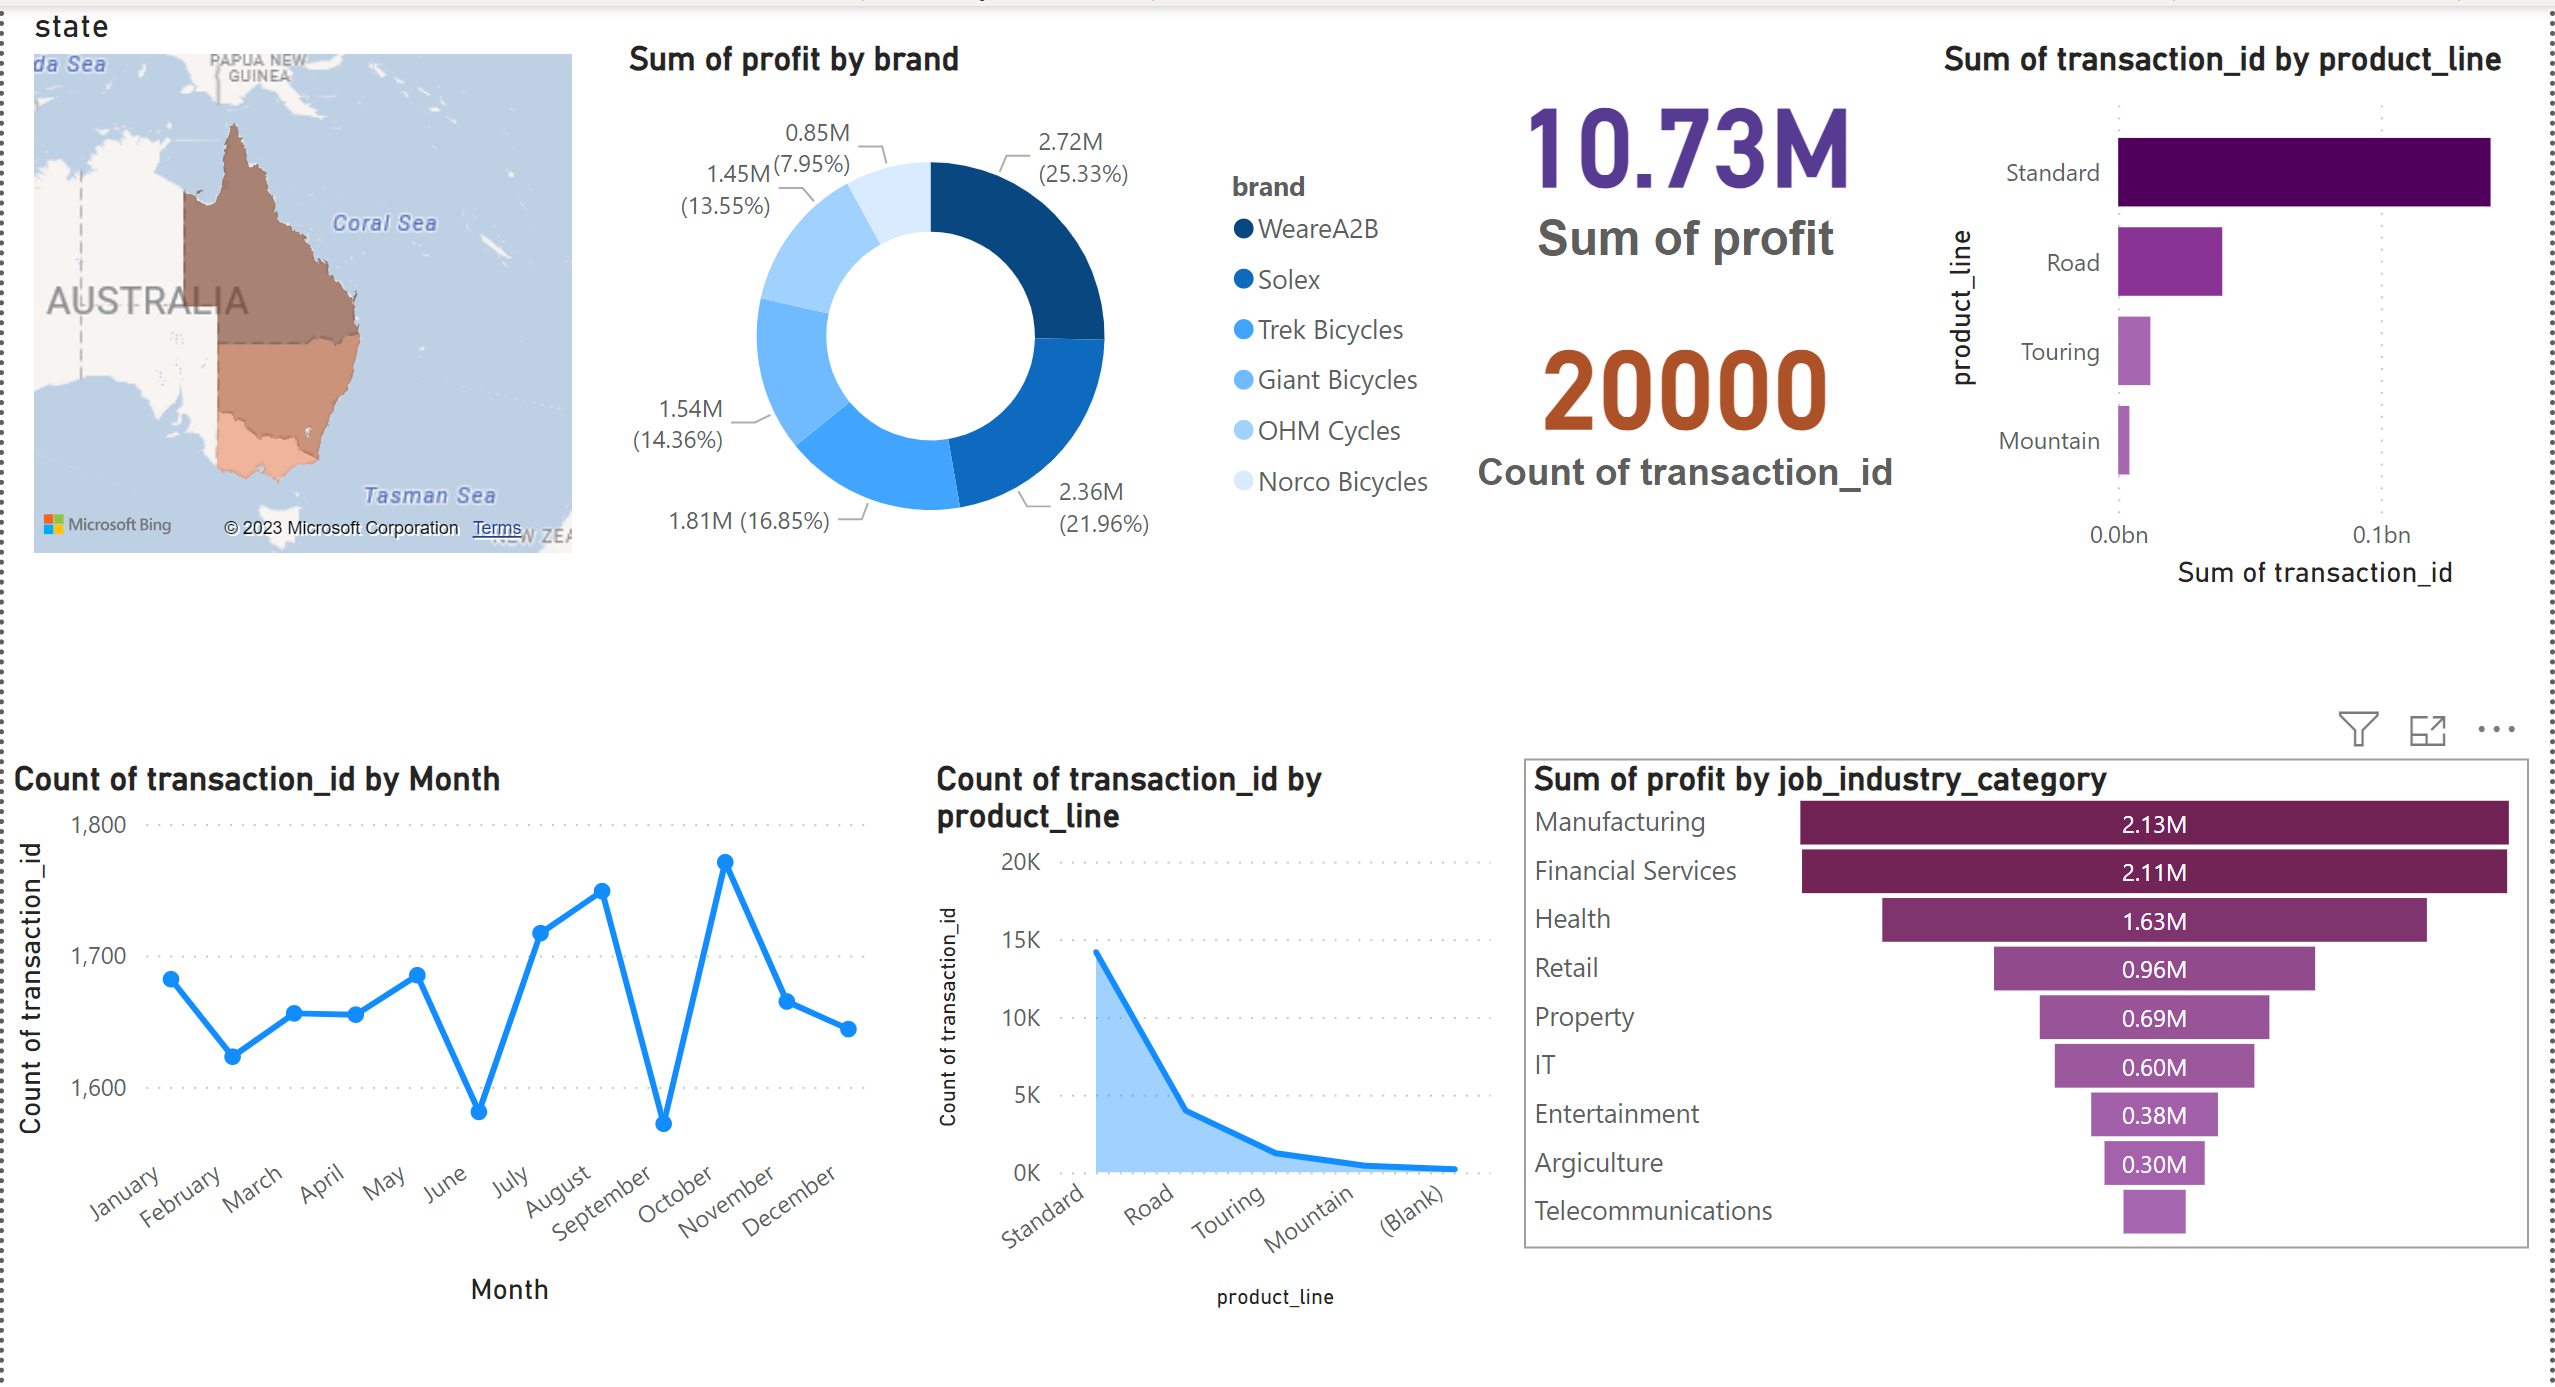

The page's visual inventory and layout, read from the dashboard file:
{"tool":"powerbi","page":{"name":"Page 1","canvas":[1280,720],"ordinal":0},"visuals":[{"type":"filledMap","fields":{"Category":["Address.state"]},"box":[10,0,280,280],"z":0},{"type":"donutChart","fields":{"Category":["Transactions.brand"],"Y":["Sum(Transactions.profit)"]},"box":[309.1,16.3,420.9,280.2],"z":1000},{"type":"card","fields":{"Values":["Sum(Transactions.profit)"]},"box":[730.1,16.3,229.9,123.1],"z":2000},{"type":"card","fields":{"Values":["CountNonNull(Transactions.transaction_id)"]},"box":[730.1,139.5,229.9,114.3],"z":3000},{"type":"lineChart","fields":{"Category":["Transactions.transaction_date.Variation.Date Hierarchy.Month"],"Y":["CountNonNull(Transactions.transaction_id)"]},"box":[0,378.7,441.9,279.6],"z":4000},{"type":"clusteredBarChart","fields":{"Category":["Transactions.product_line"],"Y":["Sum(Transactions.transaction_id)"]},"box":[970.1,16.7,310.5,280.8],"z":5000},{"type":"funnel","fields":{"Category":["CustomerDemographics.job_industry_category"],"Y":["Sum(Transactions.profit)"]},"box":[763.9,378.7,505,246.1],"z":6000},{"type":"areaChart","fields":{"Category":["Transactions.product_line"],"Y":["CountNonNull(Transactions.transaction_id)"]},"box":[463.8,378.7,288.6,280.8],"z":6001}]}

Visuals, with their boxes on the page's 1280x720 design canvas (x1, y1, x2, y2). These are canvas units, not pixel positions in the 2555x1387 screenshot, which may show the page scaled, cropped or inside an application window:
filledMap - Address.state: x1=10 y1=0 x2=290 y2=280
donutChart - Transactions.brand x Sum(Transactions.profit): x1=309 y1=16 x2=730 y2=296
card - Sum(Transactions.profit): x1=730 y1=16 x2=960 y2=139
card - CountNonNull(Transactions.transaction_id): x1=730 y1=140 x2=960 y2=254
lineChart - Transactions.transaction_date.Variation.Date Hierarchy.Month x CountNonNull(Transactions.transaction_id): x1=0 y1=379 x2=442 y2=658
clusteredBarChart - Transactions.product_line x Sum(Transactions.transaction_id): x1=970 y1=17 x2=1281 y2=298
funnel - CustomerDemographics.job_industry_category x Sum(Transactions.profit): x1=764 y1=379 x2=1269 y2=625
areaChart - Transactions.product_line x CountNonNull(Transactions.transaction_id): x1=464 y1=379 x2=752 y2=660
